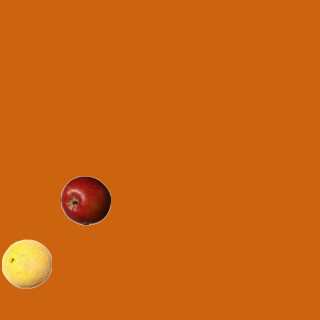Apple Braeburn: (60, 175, 110, 225)
Cantaloupe 1: (1, 238, 51, 288)
